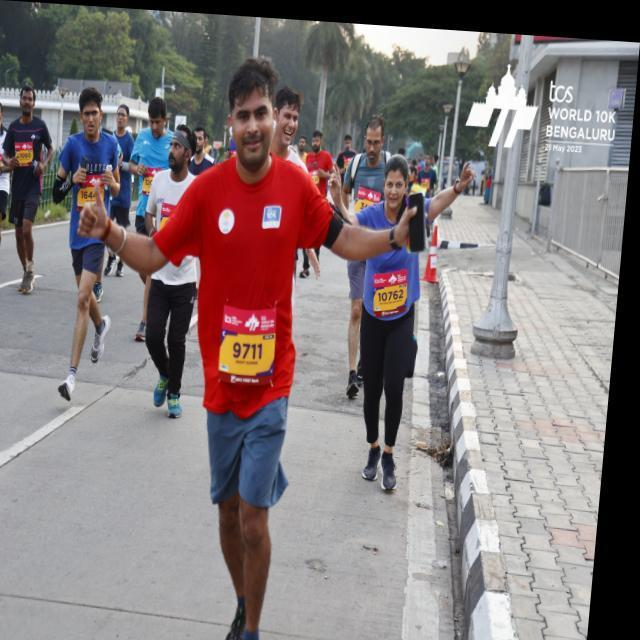dorsal: (220, 292, 285, 385), (370, 260, 418, 318)
